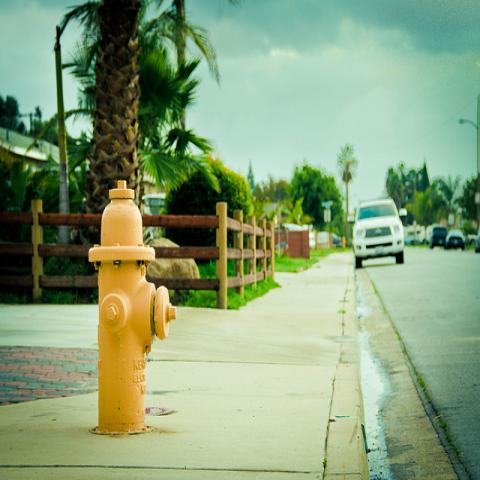car: (351, 199, 405, 267), (460, 224, 480, 252), (317, 231, 342, 250), (446, 230, 466, 250), (430, 226, 447, 248), (426, 225, 434, 245)
